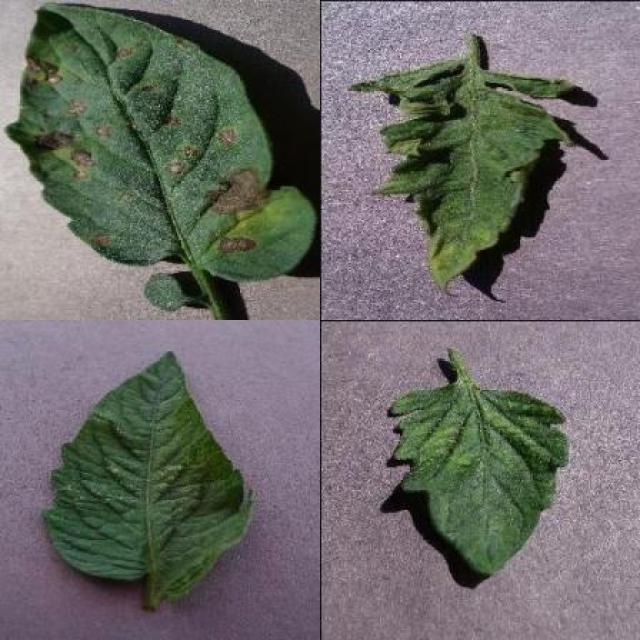Early Blight: (8, 1, 318, 279)
Mosaic Virus: (346, 58, 581, 296), (386, 384, 568, 574)
Spider Mites: (42, 348, 255, 602)
